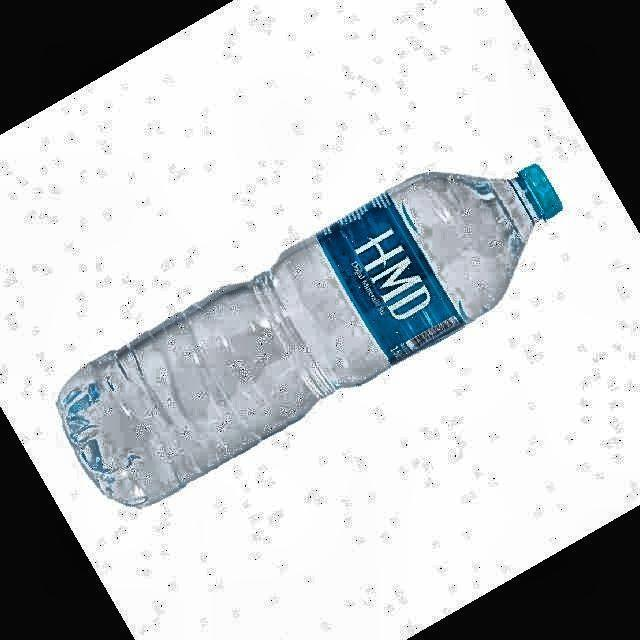plastic: (58, 165, 562, 504)
